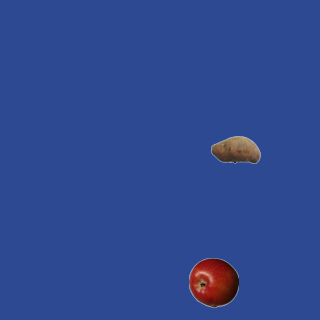Apple Braeburn: (188, 257, 238, 307)
Potato Sweet: (210, 124, 260, 174)
